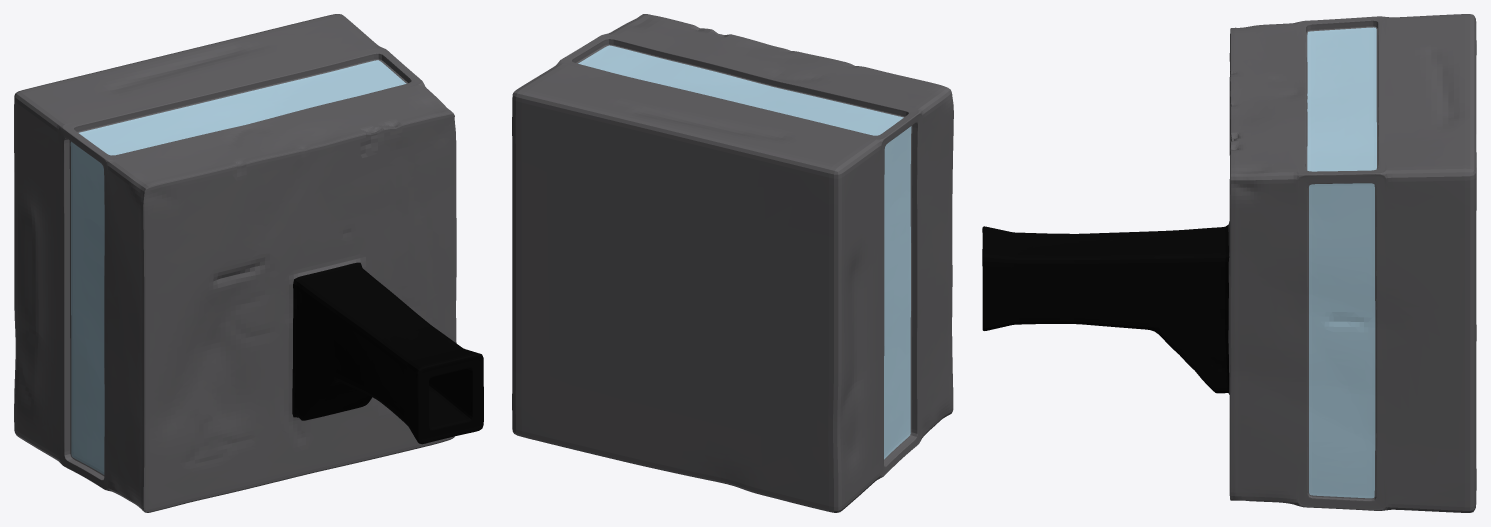
Rendered from Factory.fbx.
The picture shows the model from 3 angles, left to right: view 1: azimuth 30°, elevation 25°; view 2: azimuth 150°, elevation 25°; view 3: azimuth 270°, elevation 25°; orthographic projection.
Parts seen in each view (by area): view 1: Plane.001; view 2: Plane.001; view 3: Plane.001.
Boxes of the visible parts, box(x1,y1,x2,y2) form: Plane.001: box(14, 14, 483, 512); Plane.001: box(512, 14, 953, 512); Plane.001: box(982, 14, 1476, 512).
Bounding box in the file's own units: 49.84 × 49.81 × 64.87.
